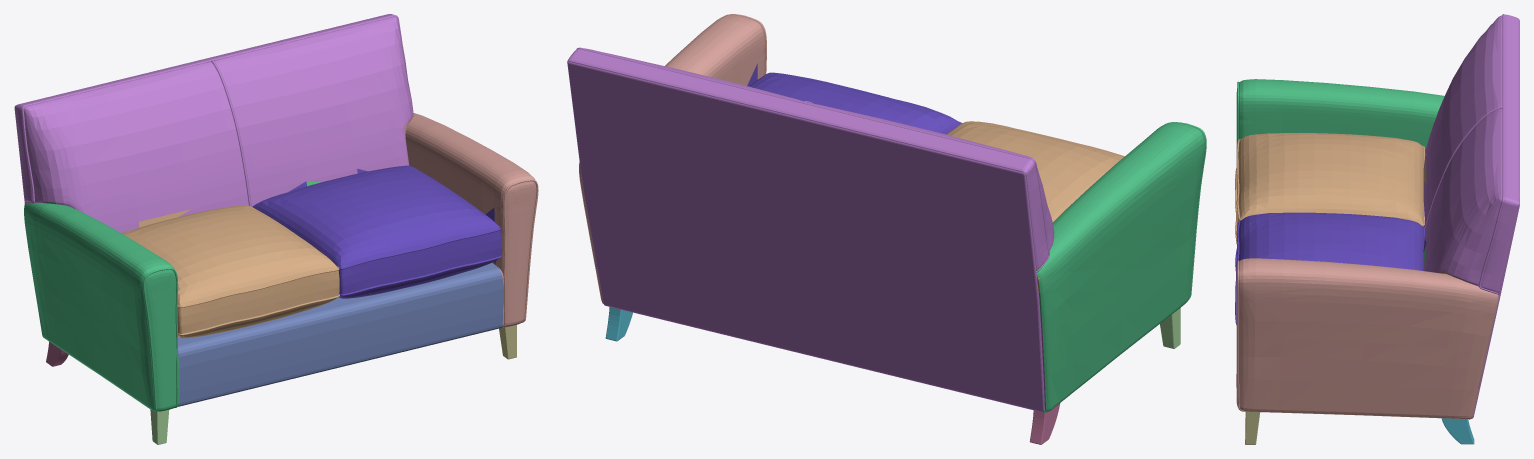
3 views of the same model, side by side, from view 1: azimuth 30°, elevation 25°; view 2: azimuth 150°, elevation 25°; view 3: azimuth 270°, elevation 25° (orthographic). The views are drawn at different scales.
Visible parts, largest first — view 1: world; view 2: world; view 3: world.
Boxes of the visible parts, left/top/right/bottom form: world: left=14, top=14, right=538, bottom=444; world: left=567, top=14, right=1206, bottom=444; world: left=1235, top=14, right=1519, bottom=444.
Size of the model in its own units: 1 by 0.5959 by 0.6132.
